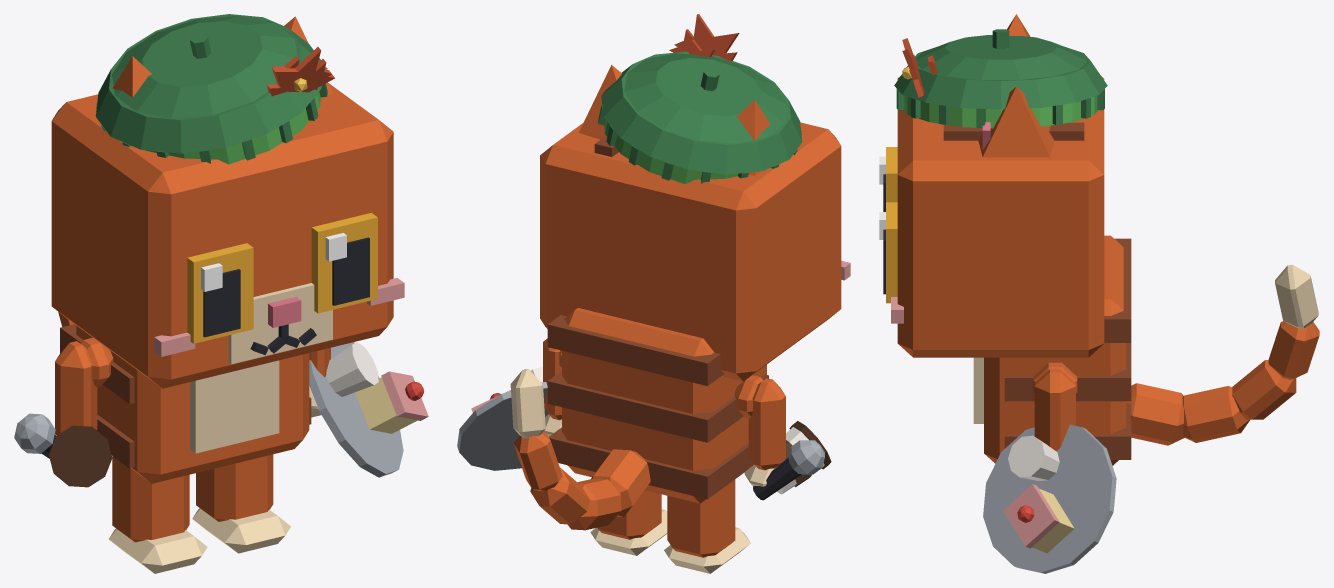
Rendered from CatCafe_Cat_MapleMuffin_Work.fbx.
The picture shows the model from 3 angles, left to right: view 1: azimuth 30°, elevation 25°; view 2: azimuth 150°, elevation 25°; view 3: azimuth 270°, elevation 25°; orthographic projection. The views are drawn at different scales.
Visible parts, largest first — view 1: CatCafe_Cat_MapleMuffin_Work_Head, CatCafe_Cat_MapleMuffin_Work_Prop, CatCafe_Cat_MapleMuffin_Work_Body, CatCafe_Cat_MapleMuffin_Work_Held_Waiter, CatCafe_Cat_MapleMuffin_Work_LegB2, CatCafe_Cat_MapleMuffin_Work_LegB1, CatCafe_Cat_MapleMuffin_Work_Eye2, CatCafe_Cat_MapleMuffin_Work_Eye1, CatCafe_Cat_MapleMuffin_Work_LegF2, CatCafe_Cat_MapleMuffin_Work_Held_Barista, CatCafe_Cat_MapleMuffin_Work_Held_Entertainer, CatCafe_Cat_MapleMuffin_Work_EarR (+1 smaller); view 2: CatCafe_Cat_MapleMuffin_Work_Head, CatCafe_Cat_MapleMuffin_Work_Body, CatCafe_Cat_MapleMuffin_Work_Prop, CatCafe_Cat_MapleMuffin_Work_Tail, CatCafe_Cat_MapleMuffin_Work_LegB2, CatCafe_Cat_MapleMuffin_Work_Held_Waiter, CatCafe_Cat_MapleMuffin_Work_LegF2, CatCafe_Cat_MapleMuffin_Work_LegB1, CatCafe_Cat_MapleMuffin_Work_Held_Entertainer, CatCafe_Cat_MapleMuffin_Work_LegF1, CatCafe_Cat_MapleMuffin_Work_EarL, CatCafe_Cat_MapleMuffin_Work_Held_Barista (+1 smaller); view 3: CatCafe_Cat_MapleMuffin_Work_Head, CatCafe_Cat_MapleMuffin_Work_Prop, CatCafe_Cat_MapleMuffin_Work_Held_Waiter, CatCafe_Cat_MapleMuffin_Work_Body, CatCafe_Cat_MapleMuffin_Work_Tail, CatCafe_Cat_MapleMuffin_Work_EarL, CatCafe_Cat_MapleMuffin_Work_LegF1, CatCafe_Cat_MapleMuffin_Work_Eye1, CatCafe_Cat_MapleMuffin_Work_Eye2.
Part boxes in pixels (bbox=[...]): CatCafe_Cat_MapleMuffin_Work_Head: bbox=[51, 82, 404, 388]; CatCafe_Cat_MapleMuffin_Work_Prop: bbox=[96, 14, 334, 164]; CatCafe_Cat_MapleMuffin_Work_Body: bbox=[60, 324, 311, 483]; CatCafe_Cat_MapleMuffin_Work_Held_Waiter: bbox=[309, 342, 428, 477]; CatCafe_Cat_MapleMuffin_Work_LegB2: bbox=[109, 456, 207, 573]; CatCafe_Cat_MapleMuffin_Work_LegB1: bbox=[192, 454, 290, 553]; CatCafe_Cat_MapleMuffin_Work_Eye2: bbox=[187, 243, 253, 343]; CatCafe_Cat_MapleMuffin_Work_Eye1: bbox=[311, 213, 377, 313]; CatCafe_Cat_MapleMuffin_Work_LegF2: bbox=[55, 341, 97, 435]; CatCafe_Cat_MapleMuffin_Work_Held_Barista: bbox=[48, 425, 112, 487]; CatCafe_Cat_MapleMuffin_Work_Held_Entertainer: bbox=[14, 413, 56, 458]; CatCafe_Cat_MapleMuffin_Work_EarR: bbox=[95, 56, 151, 115]; CatCafe_Cat_MapleMuffin_Work_Head: bbox=[540, 122, 850, 381]; CatCafe_Cat_MapleMuffin_Work_Body: bbox=[547, 308, 768, 503]; CatCafe_Cat_MapleMuffin_Work_Prop: bbox=[598, 14, 802, 183]; CatCafe_Cat_MapleMuffin_Work_Tail: bbox=[510, 369, 650, 530]; CatCafe_Cat_MapleMuffin_Work_LegB2: bbox=[664, 479, 750, 573]; CatCafe_Cat_MapleMuffin_Work_Held_Waiter: bbox=[457, 366, 548, 470]; CatCafe_Cat_MapleMuffin_Work_LegF2: bbox=[744, 378, 785, 486]; CatCafe_Cat_MapleMuffin_Work_LegB1: bbox=[590, 490, 667, 555]; CatCafe_Cat_MapleMuffin_Work_Held_Entertainer: bbox=[753, 440, 824, 500]; CatCafe_Cat_MapleMuffin_Work_LegF1: bbox=[543, 338, 561, 436]; CatCafe_Cat_MapleMuffin_Work_EarL: bbox=[578, 65, 622, 139]; CatCafe_Cat_MapleMuffin_Work_Held_Barista: bbox=[776, 421, 831, 494]; CatCafe_Cat_MapleMuffin_Work_Head: bbox=[891, 76, 1104, 357]; CatCafe_Cat_MapleMuffin_Work_Prop: bbox=[894, 29, 1107, 128]; CatCafe_Cat_MapleMuffin_Work_Held_Waiter: bbox=[983, 424, 1116, 573]; CatCafe_Cat_MapleMuffin_Work_Body: bbox=[973, 235, 1131, 465]; CatCafe_Cat_MapleMuffin_Work_Tail: bbox=[1126, 264, 1319, 445]; CatCafe_Cat_MapleMuffin_Work_EarL: bbox=[978, 86, 1054, 157]; CatCafe_Cat_MapleMuffin_Work_LegF1: bbox=[1034, 369, 1075, 451]; CatCafe_Cat_MapleMuffin_Work_Eye1: bbox=[879, 202, 897, 303]; CatCafe_Cat_MapleMuffin_Work_Eye2: bbox=[879, 147, 897, 211].
Bounding box in the file's own units: 1.53 × 2.01 × 1.62.
1 material, 1 textured.
